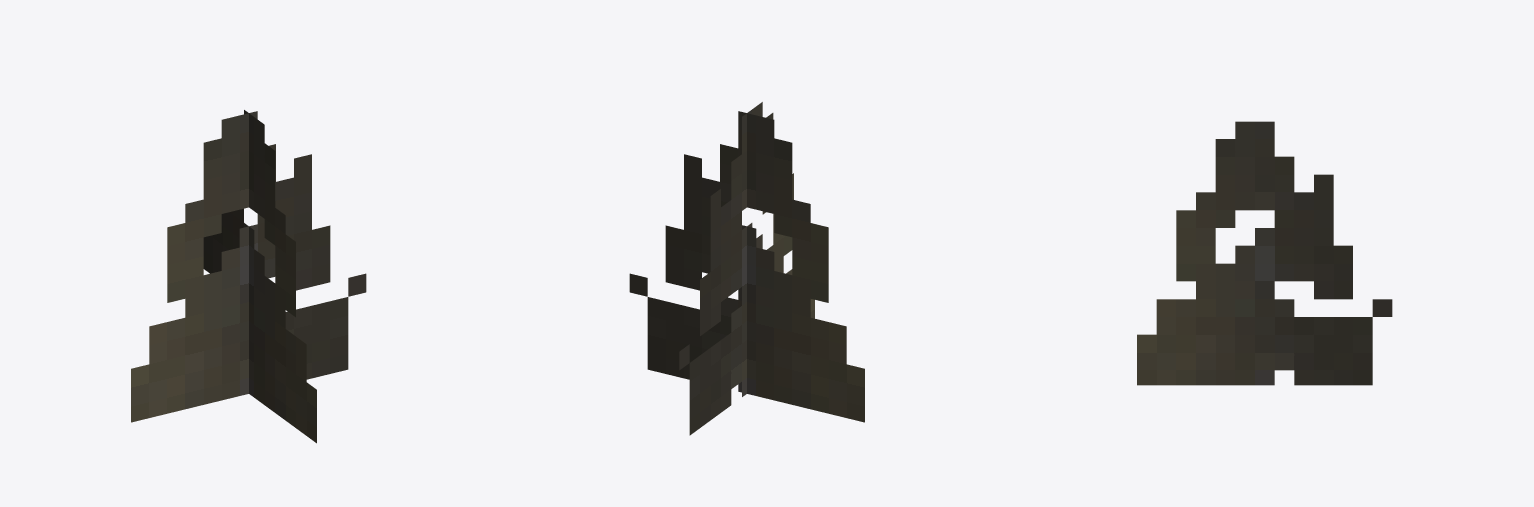
Rendered from treePine_small.fbx.
The picture shows the model from 3 angles, left to right: view 1: azimuth 30°, elevation 25°; view 2: azimuth 150°, elevation 25°; view 3: azimuth 270°, elevation 25°; orthographic projection. The views are drawn at different scales.
Visible parts, largest first — view 1: treePine_small; view 2: treePine_small; view 3: treePine_small.
Part boxes in pixels (x1,y1,x2,y2): treePine_small: (131,110,366,443); treePine_small: (629,102,864,435); treePine_small: (1137,121,1392,385).
Bounding box in the file's own units: 7 × 4 × 7.
